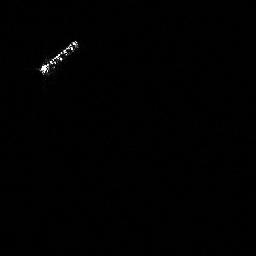ship: (37, 38, 81, 81)
